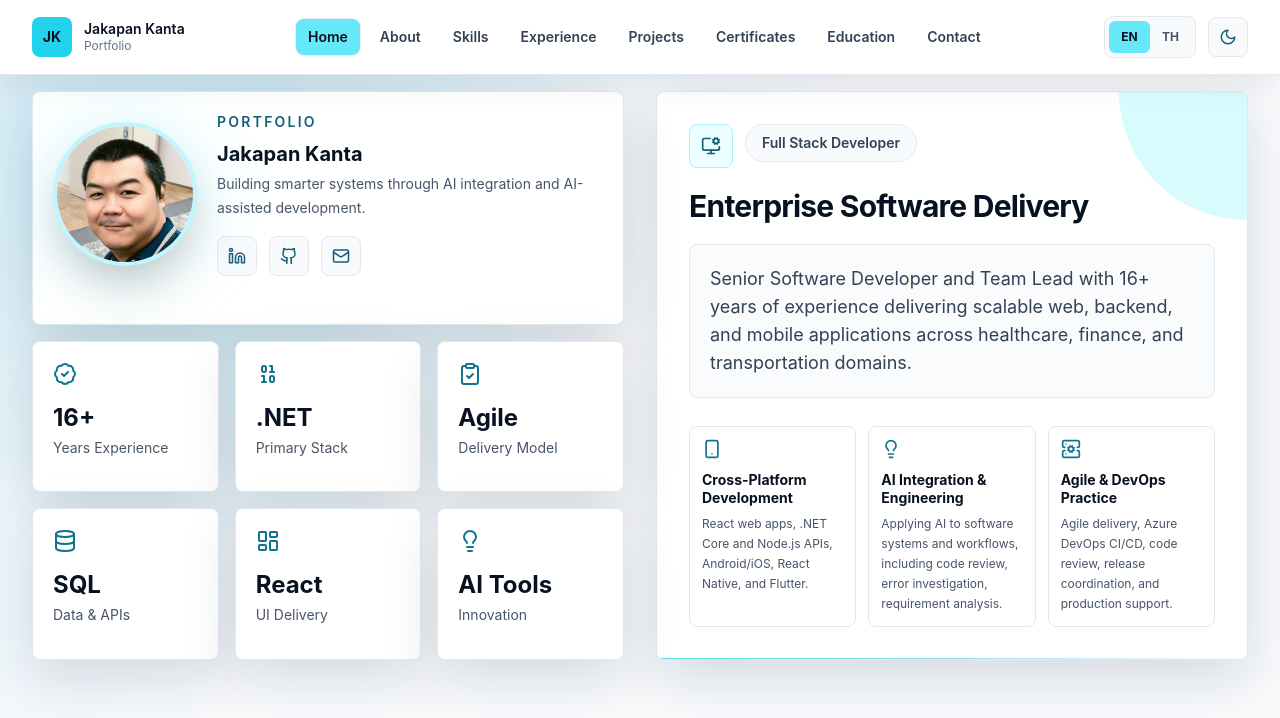
App › keeps skill cards visible when switching languages back and forth
Click the button "TH" at (1170, 37), box [1150,21,1191,53]
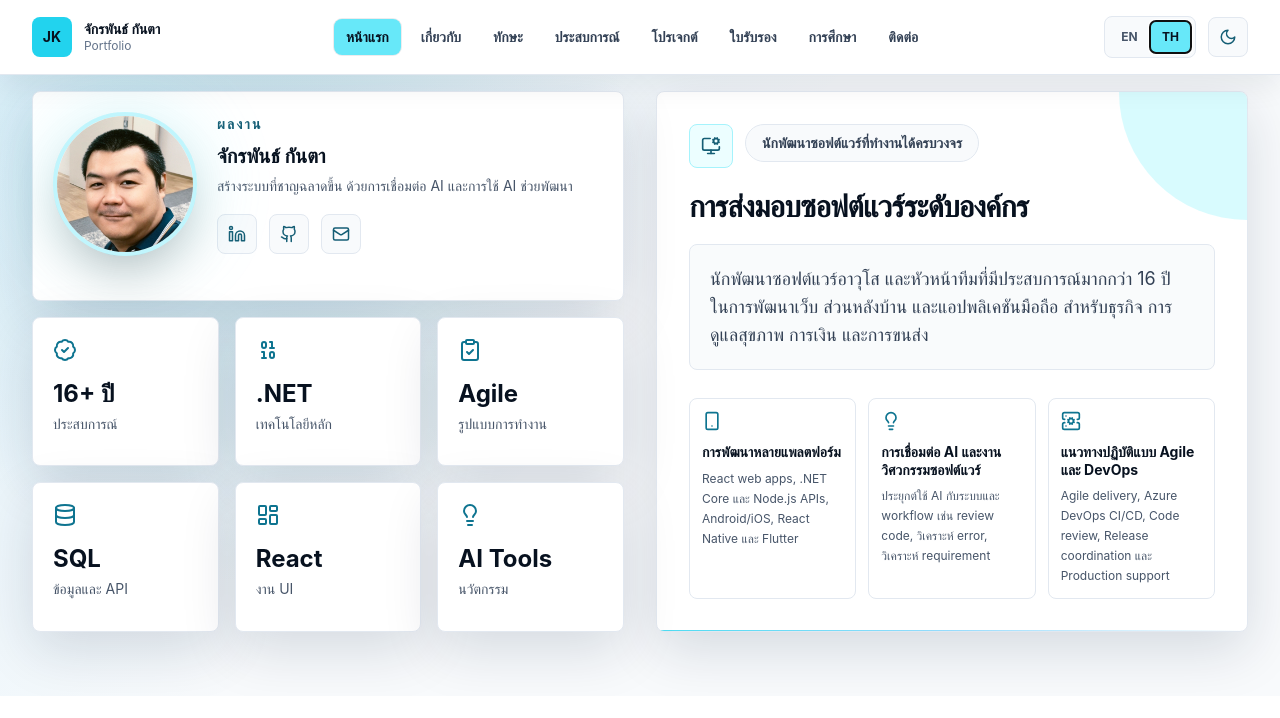
Click the button "EN" at (1130, 37), box [1109,21,1150,53]
(page scrolled)
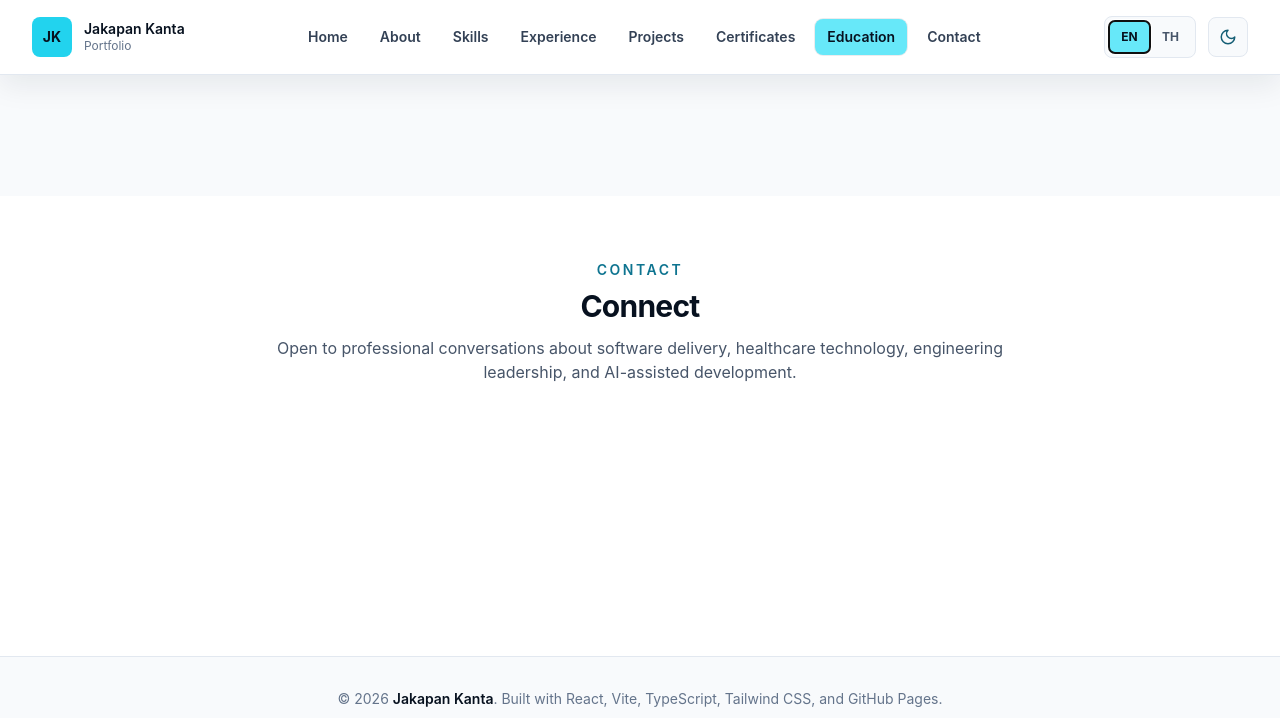
Now the text "Open to professional conversations about software delivery, healthcare technology, engineering leadership, and AI-assist" is shown, box [277,338,1003,382]
